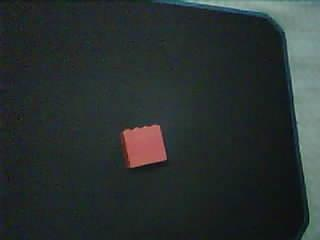lego: (118, 122, 168, 170)
